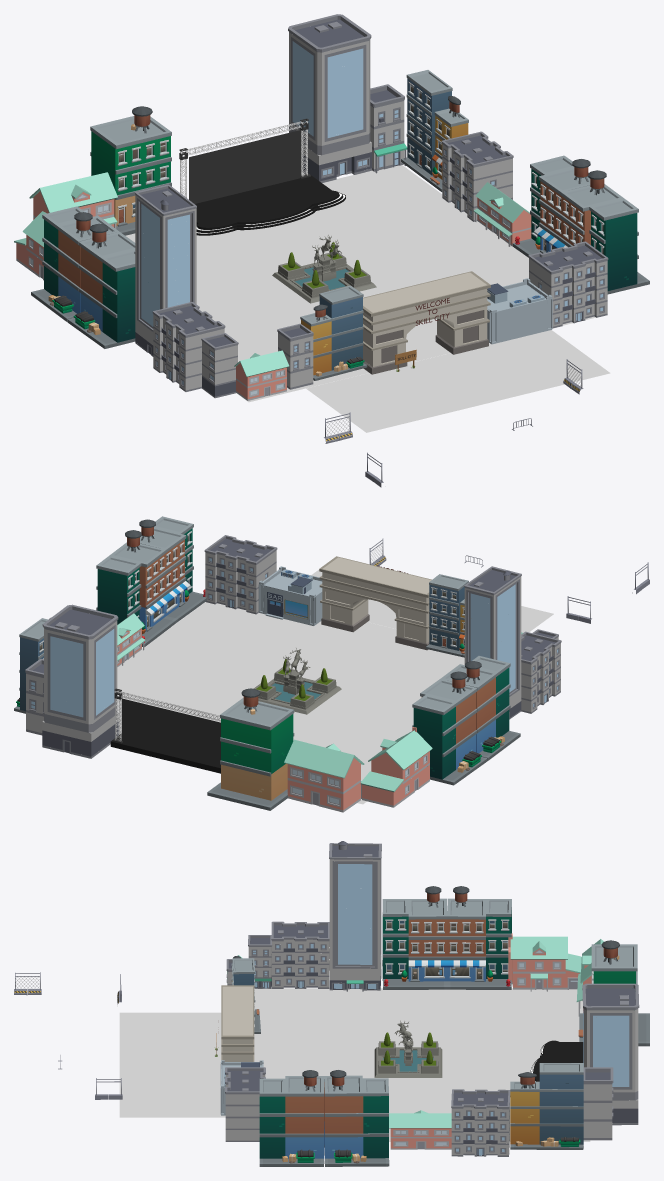
Rendered from skillCityMap.glb.
The picture shows the model from 3 angles, top to bottom: view 1: azimuth 30°, elevation 25°; view 2: azimuth 150°, elevation 25°; view 3: azimuth 270°, elevation 25°; orthographic projection. The views are drawn at different scales.
Parts seen in each view (by area): view 1: Plane, Plane.007, stage.001, skyscraperA, SM_Archway:SM_Archway1, skyscraperD, building_G, building_D, building_G.003, large_buildingA, building_H.001, building_G.001 (+13 smaller); view 2: Plane, skyscraperA, building_D, SM_Archway:SM_Archway1, stage.001, skyscraperD, building_G.001, building_G.002, house_type12.003, large_buildingA, building_G, house_type08 (+9 smaller); view 3: Plane, Plane.007, skyscraperD, skyscraperA, building_G, building_H.001, building_G.001, building_G.002, building_G.003, large_buildingA.001, large_buildingA.002, house_type08 (+11 smaller).
Boxes of the visible parts, x1,y1,x2,y2 form: Plane: [125, 165, 595, 402]; Plane.007: [306, 330, 610, 432]; stage.001: [179, 118, 345, 235]; skyscraperA: [288, 14, 371, 182]; SM_Archway:SM_Archway1: [363, 271, 490, 374]; skyscraperD: [135, 184, 196, 356]; building_G: [67, 223, 135, 348]; building_D: [90, 106, 171, 235]; building_G.003: [556, 170, 649, 294]; large_buildingA: [528, 241, 608, 328]; building_H.001: [401, 70, 468, 191]; building_G.001: [31, 206, 119, 321]; Plane: [117, 602, 464, 804]; skyscraperA: [42, 604, 118, 758]; building_D: [207, 688, 294, 810]; SM_Archway:SM_Archway1: [319, 556, 431, 650]; stage.001: [110, 688, 220, 773]; skyscraperD: [464, 566, 521, 719]; building_G.001: [412, 671, 487, 785]; building_G.002: [96, 530, 176, 646]; house_type12.003: [284, 739, 364, 812]; large_buildingA: [204, 535, 277, 614]; building_G: [440, 656, 520, 760]; house_type08: [360, 727, 432, 807]; Plane: [254, 988, 590, 1141]; Plane.007: [119, 1012, 225, 1117]; skyscraperD: [329, 841, 381, 991]; skyscraperA: [582, 983, 639, 1125]; building_G: [382, 886, 447, 989]; building_H.001: [510, 1063, 583, 1149]; building_G.001: [447, 886, 511, 989]; building_G.002: [324, 1070, 389, 1166]; building_G.003: [259, 1070, 323, 1166]; large_buildingA.001: [451, 1089, 510, 1156]; large_buildingA.002: [271, 921, 329, 988]; house_type08: [508, 933, 581, 991].
Size of the model in its own units: 66.44 by 21.09 by 87.37.
63 materials, 5 textured.
